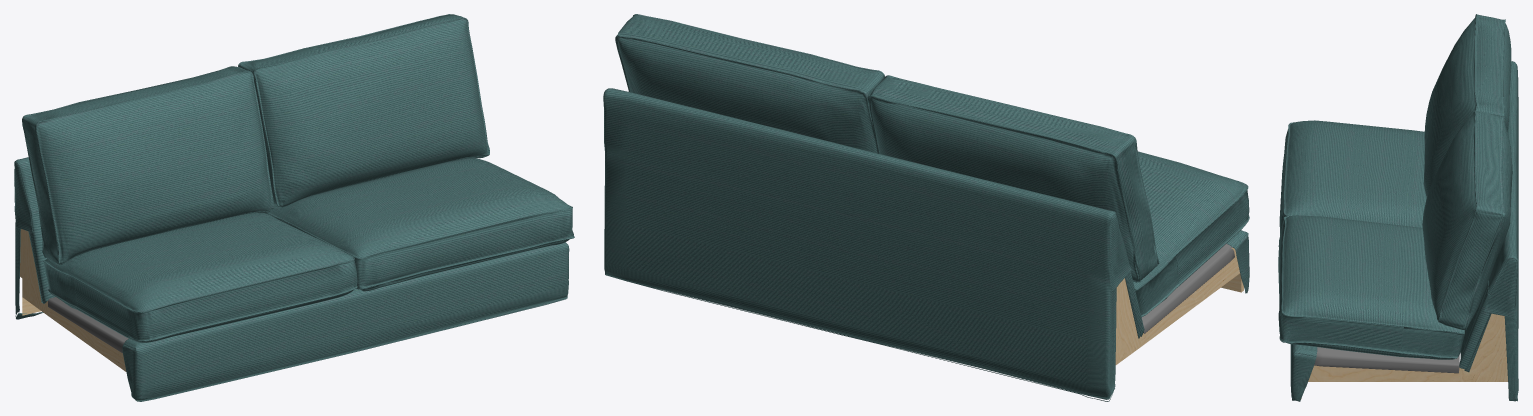
File: kivik-3seater.glb
3 views of the same model, side by side, from view 1: azimuth 30°, elevation 25°; view 2: azimuth 150°, elevation 25°; view 3: azimuth 270°, elevation 25° (orthographic). The views are drawn at different scales.
Parts seen in each view (by area): view 1: fabric, wood, grey material; view 2: fabric, wood, grey material; view 3: fabric, wood, grey material.
Boxes of the visible parts, x1,y1,x2,y2 form: fabric: [14, 14, 574, 401]; wood: [20, 229, 126, 371]; grey material: [48, 297, 128, 353]; fabric: [603, 14, 1249, 401]; wood: [1115, 247, 1243, 364]; grey material: [1141, 243, 1234, 333]; fabric: [1278, 14, 1518, 401]; wood: [1301, 313, 1507, 399]; grey material: [1314, 347, 1459, 373].
Bounding box in the file's own units: 1.83 × 0.8636 × 0.9431.
3 materials, 2 textured.
